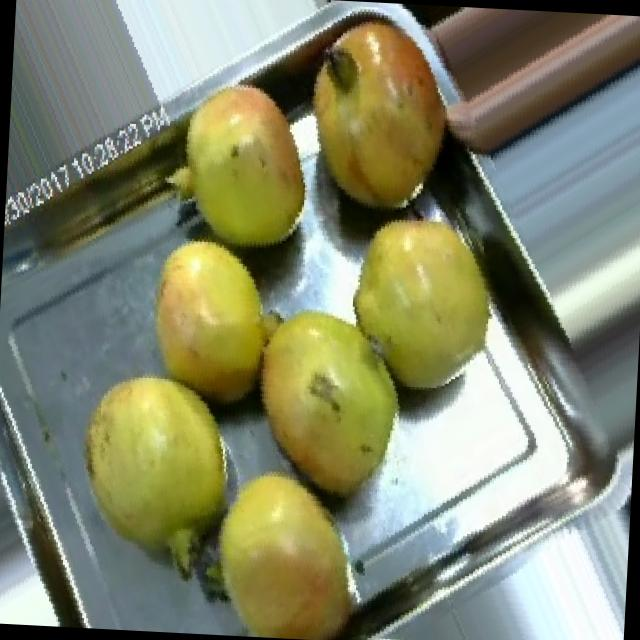fruit: (54, 346, 260, 596), (228, 284, 430, 524), (280, 0, 474, 245), (323, 189, 522, 420), (179, 445, 385, 640), (150, 58, 330, 273), (124, 213, 296, 427)
